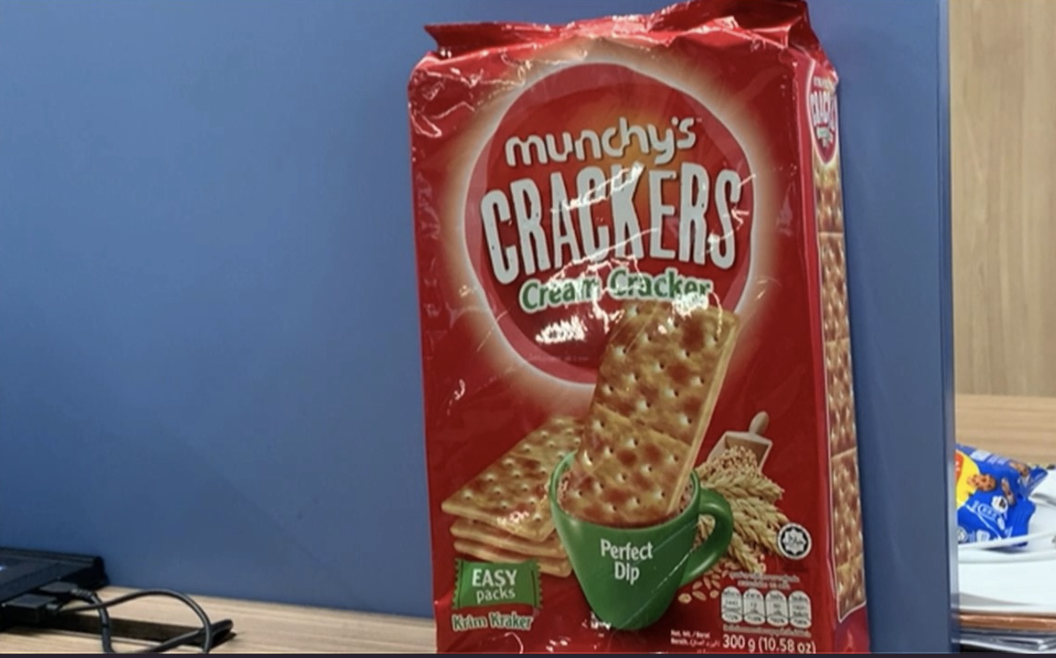crackers_150g: (454, 102, 829, 639)
